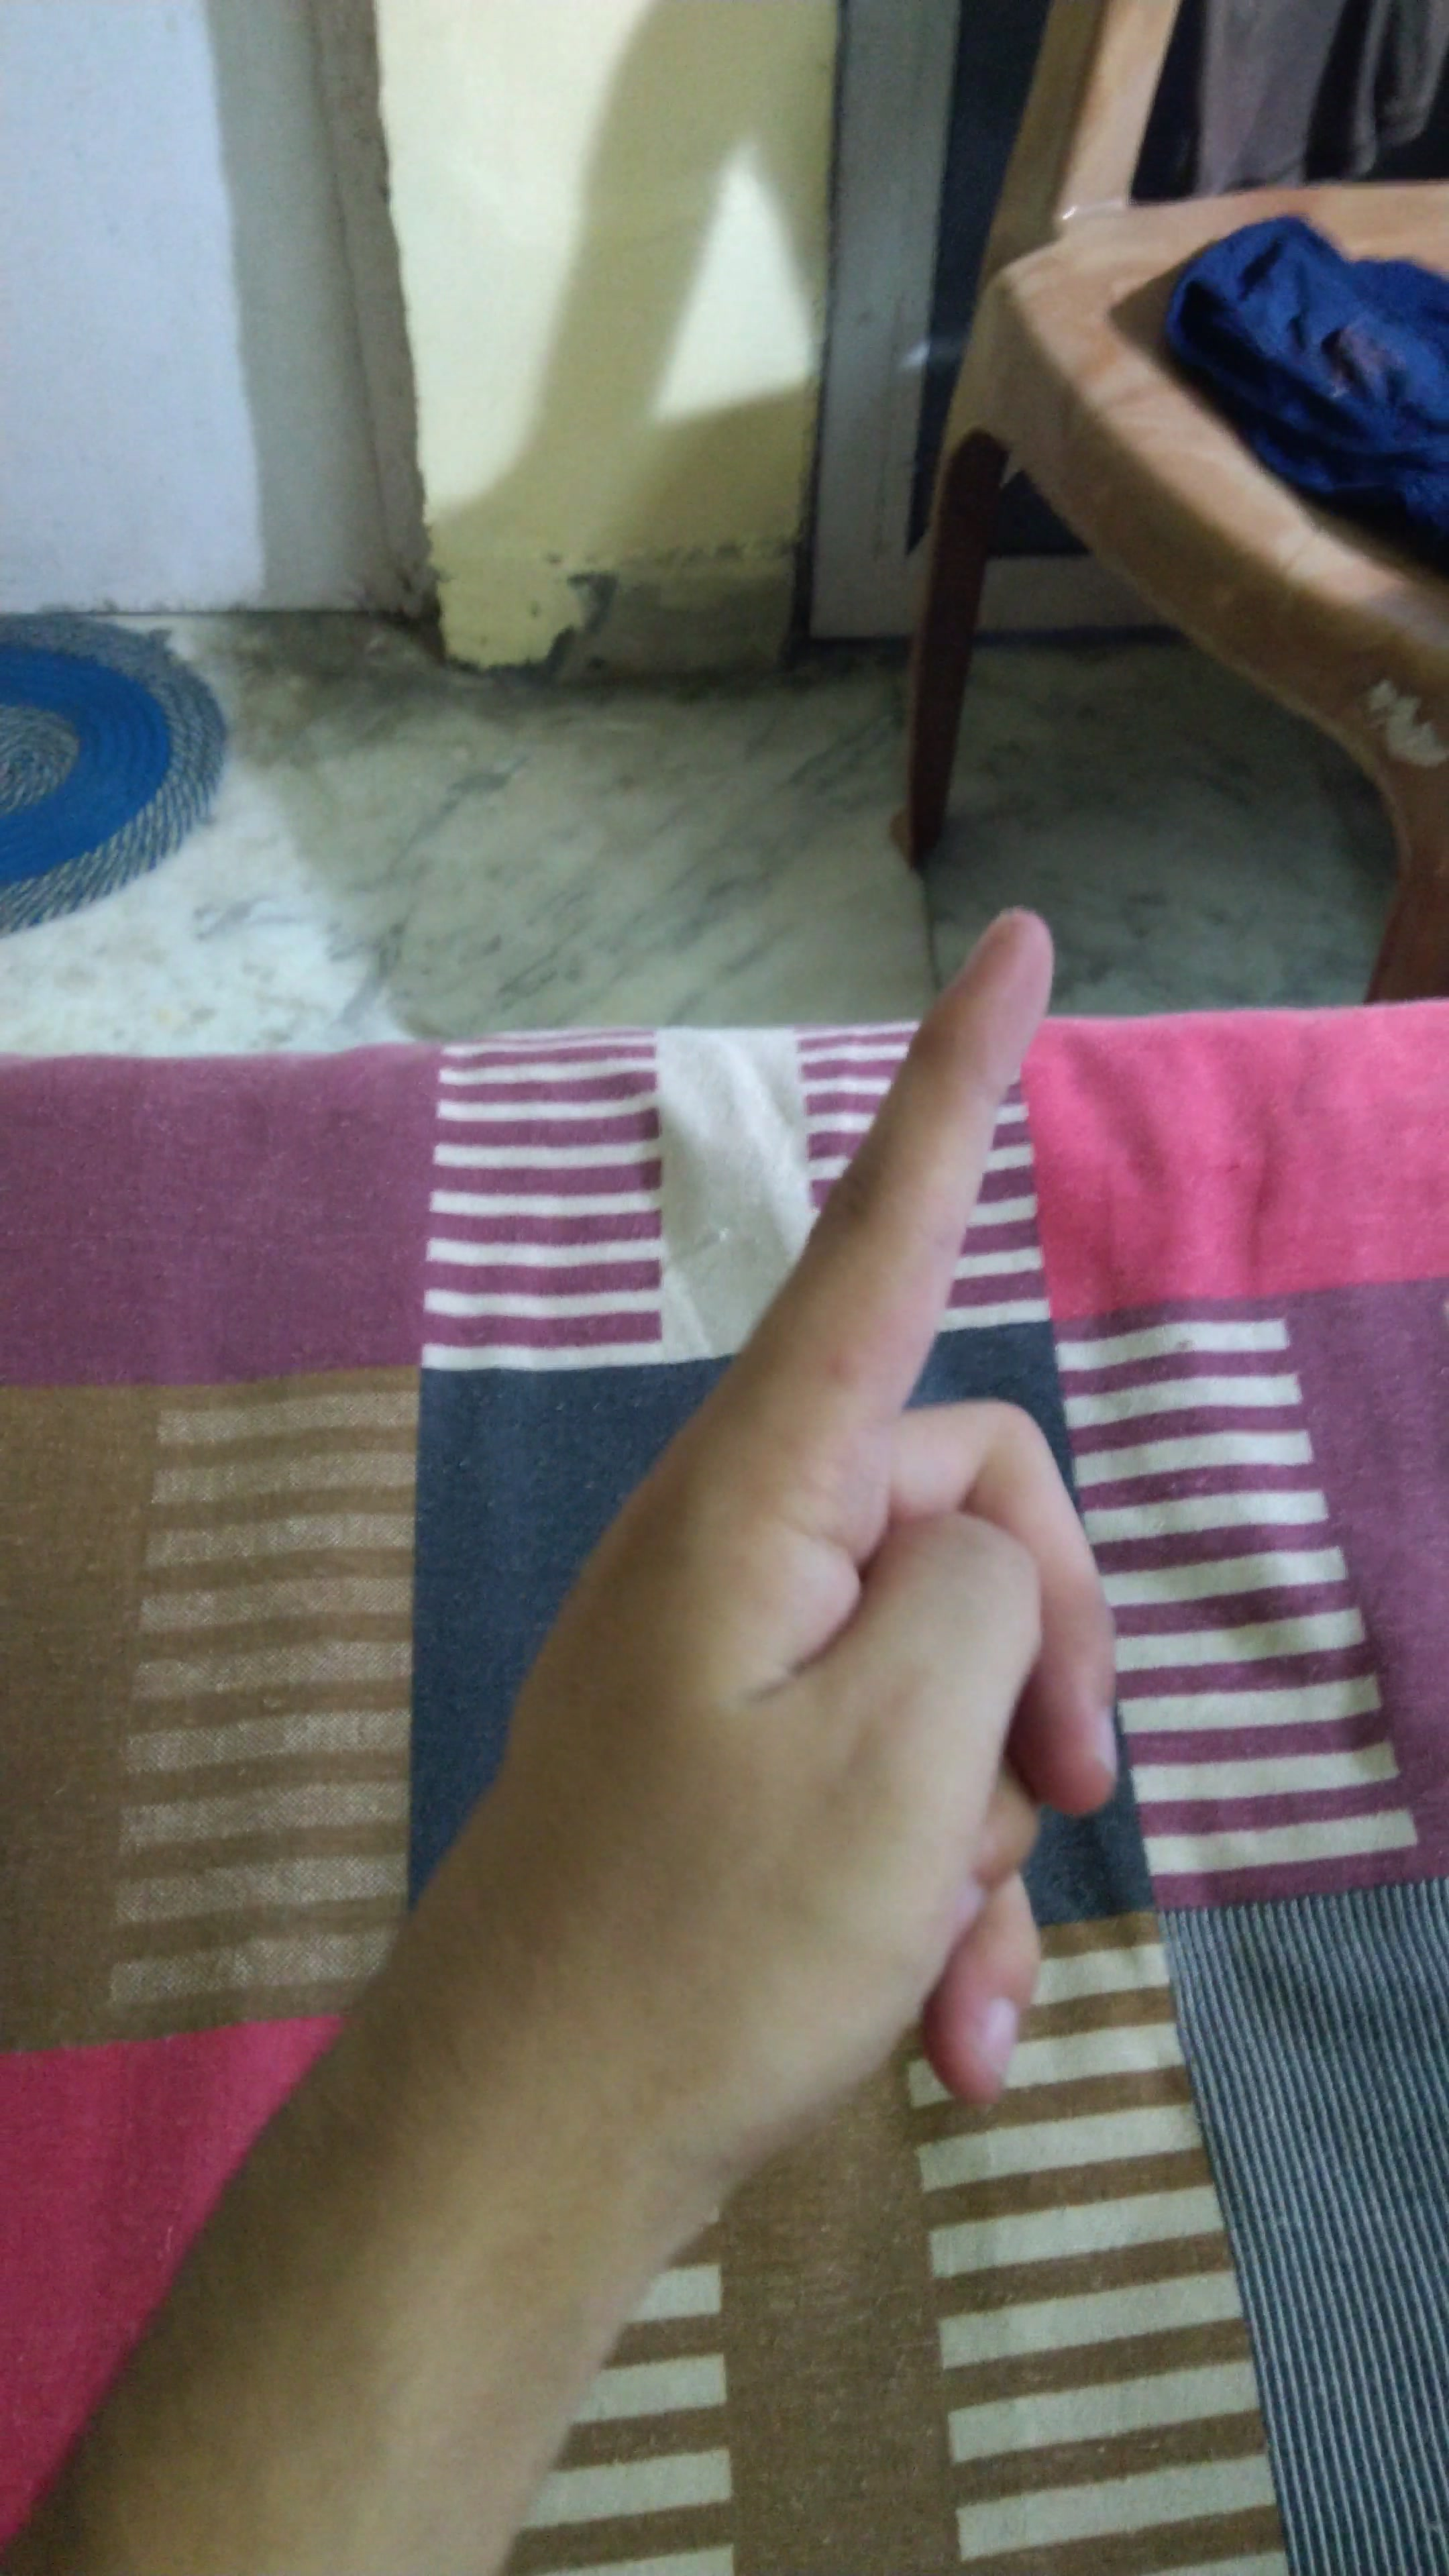hand: (329, 890, 1265, 2272)
